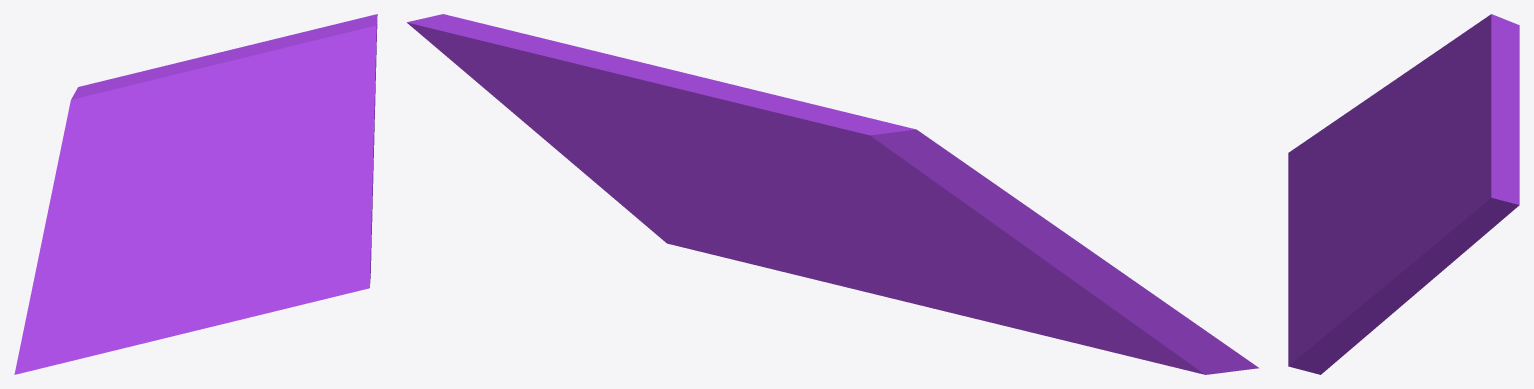
Rendered from Window_128.fbx.
3 renders of one model, left to right at view 1: azimuth 30°, elevation 25°; view 2: azimuth 150°, elevation 25°; view 3: azimuth 270°, elevation 25°, orthographic. The views are drawn at different scales.
Visible parts, largest first — view 1: Window_128; view 2: Window_128; view 3: Window_128.
Boxes of the visible parts, x1=… form: Window_128: x1=14, y1=14, x2=377, y2=374; Window_128: x1=407, y1=14, x2=1259, y2=374; Window_128: x1=1288, y1=14, x2=1519, y2=374.
Size of the model in its own units: 2021 by 763 by 720.
